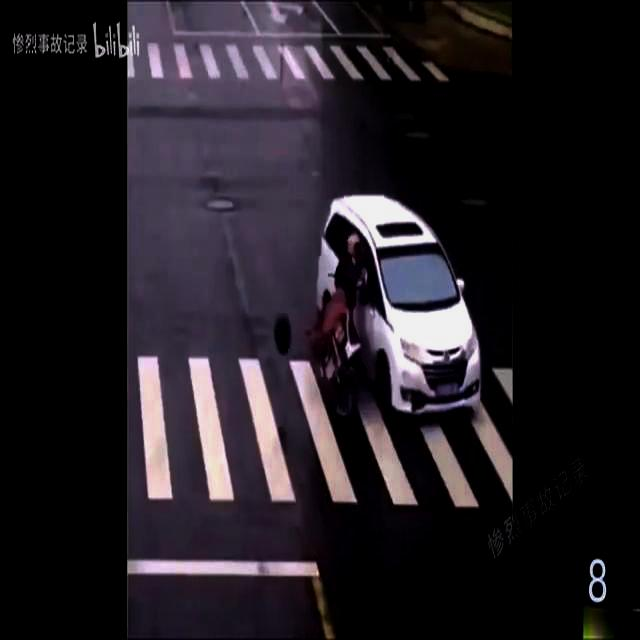accident: (269, 192, 483, 424)
